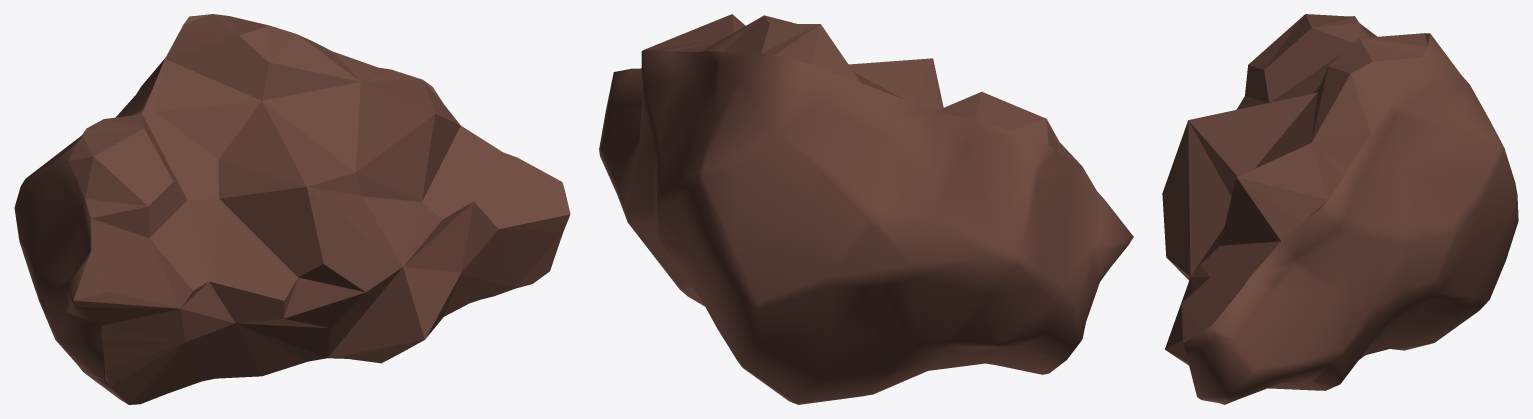
File: p_mesh_hvs_rock_medium01_destruction_part04.fbx
3 views of the same model, side by side, from view 1: azimuth 30°, elevation 25°; view 2: azimuth 150°, elevation 25°; view 3: azimuth 270°, elevation 25° (orthographic). The views are drawn at different scales.
Parts seen in each view (by area): view 1: p_medium_destruction_part04; view 2: p_medium_destruction_part04; view 3: p_medium_destruction_part04.
Part boxes in pixels (bbox=[...]): p_medium_destruction_part04: bbox=[14, 14, 570, 404]; p_medium_destruction_part04: bbox=[599, 14, 1133, 404]; p_medium_destruction_part04: bbox=[1162, 14, 1518, 404].
Bounding box in the file's own units: 9.52 × 5.86 × 6.05.
